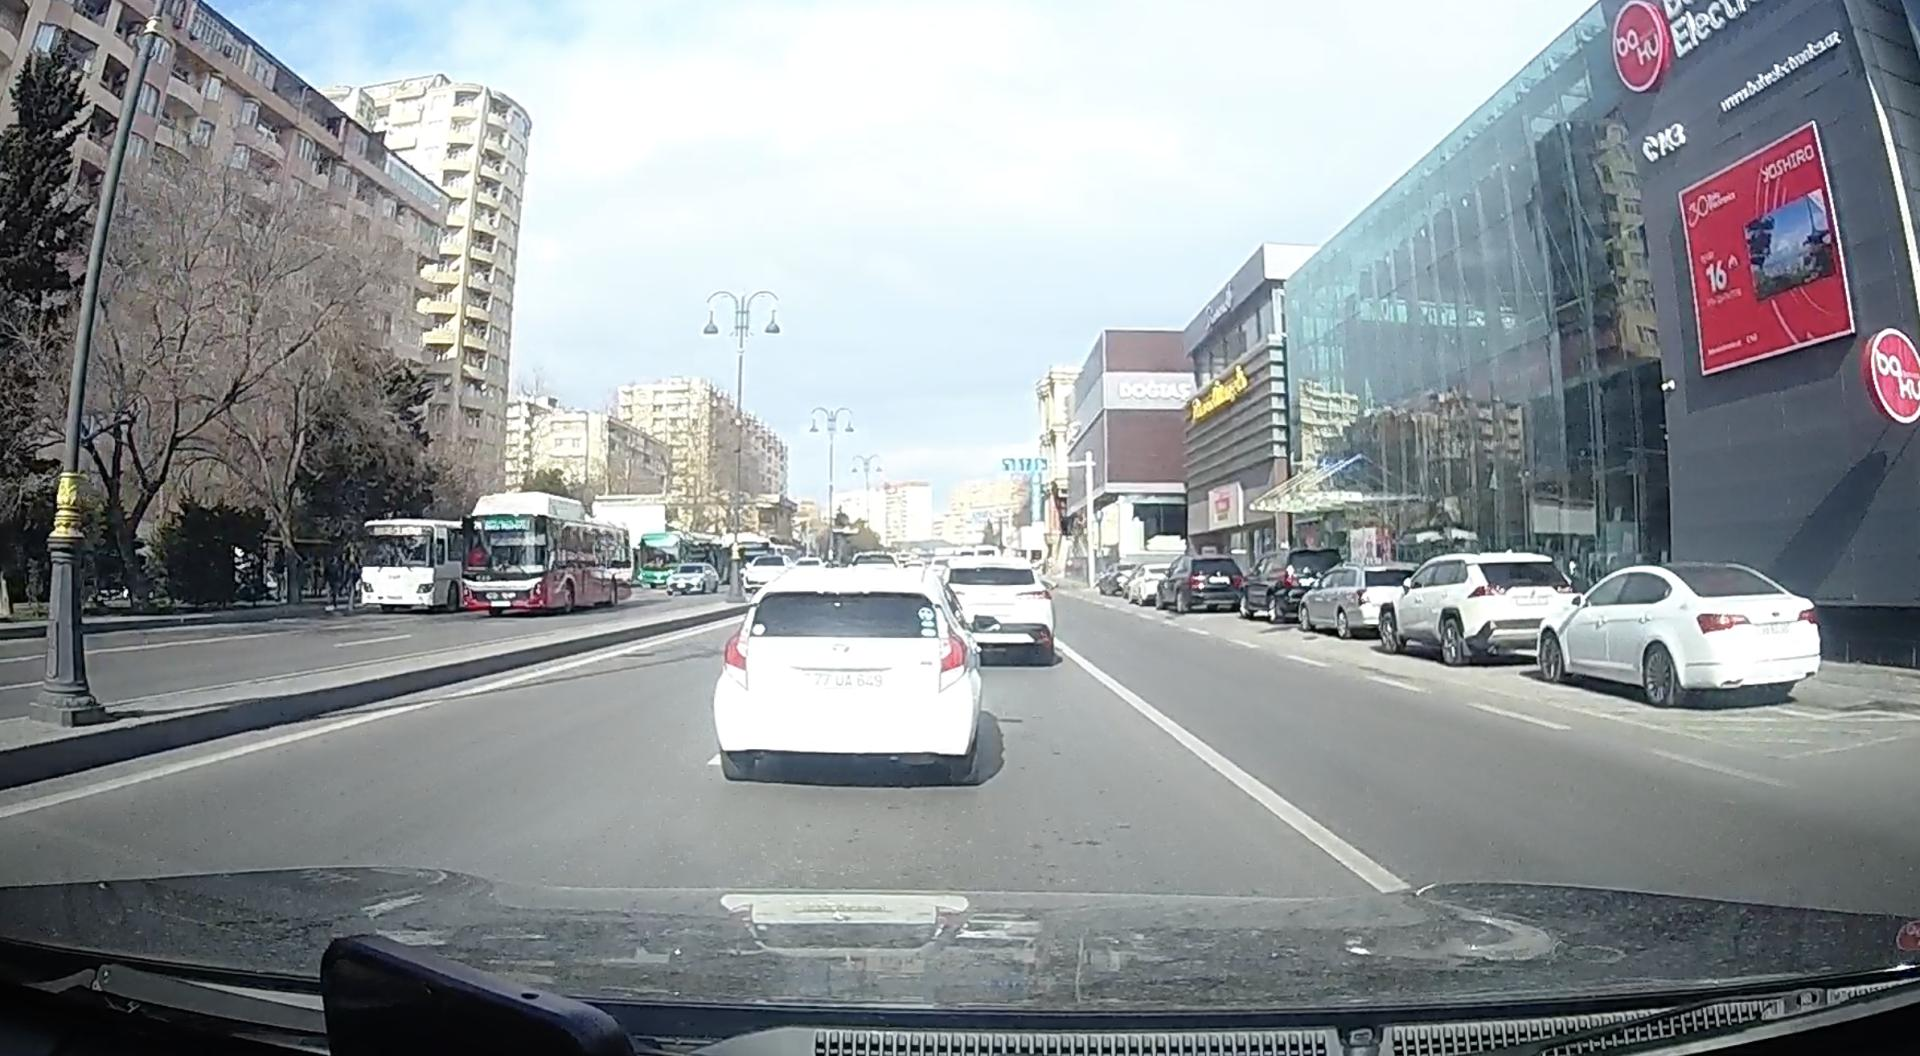banner: (1680, 124, 1858, 380)
